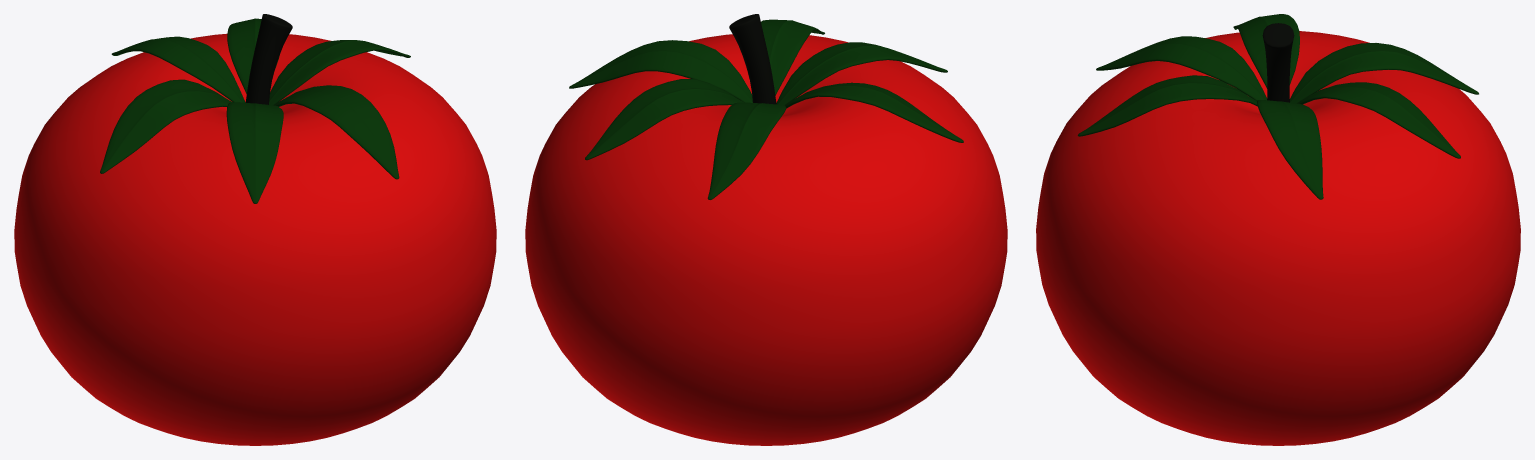
Rendered from Tomato.fbx.
The picture shows the model from 3 angles, left to right: view 1: azimuth 30°, elevation 25°; view 2: azimuth 150°, elevation 25°; view 3: azimuth 270°, elevation 25°; orthographic projection.
Visible parts, largest first — view 1: Tomato, Leaf_1, Leaf_5, leaf_6, Leaf_2, Leaf_4, Stem, leaf_3; view 2: Tomato, Leaf_4, leaf_3, Leaf_2, leaf_6, Leaf_1, Stem, Leaf_5; view 3: Tomato, Leaf_2, leaf_6, Leaf_4, Leaf_5, leaf_3, Stem, Leaf_1.
Boxes of the visible parts, bbox=[...] form: Tomato: bbox=[14, 33, 496, 445]; Leaf_1: bbox=[100, 79, 232, 173]; Leaf_5: bbox=[274, 85, 399, 179]; leaf_6: bbox=[226, 102, 283, 203]; Leaf_2: bbox=[111, 36, 245, 102]; Leaf_4: bbox=[269, 40, 410, 105]; Stem: bbox=[245, 14, 292, 104]; leaf_3: bbox=[227, 18, 279, 93]; Tomato: bbox=[525, 34, 1007, 445]; Leaf_4: bbox=[569, 40, 752, 102]; leaf_3: bbox=[585, 79, 743, 160]; Leaf_2: bbox=[707, 102, 785, 199]; leaf_6: bbox=[776, 42, 947, 105]; Leaf_1: bbox=[785, 82, 963, 142]; Stem: bbox=[729, 14, 776, 104]; Leaf_5: bbox=[761, 19, 824, 95]; Tomato: bbox=[1036, 31, 1520, 445]; Leaf_2: bbox=[1290, 43, 1478, 103]; leaf_6: bbox=[1096, 36, 1267, 100]; Leaf_4: bbox=[1257, 100, 1323, 199]; Leaf_5: bbox=[1077, 75, 1257, 136]; leaf_3: bbox=[1297, 82, 1460, 158]; Stem: bbox=[1262, 23, 1294, 102]; Leaf_1: bbox=[1233, 14, 1299, 88].
Bounding box in the file's own units: 1.26 × 1.14 × 1.26.
